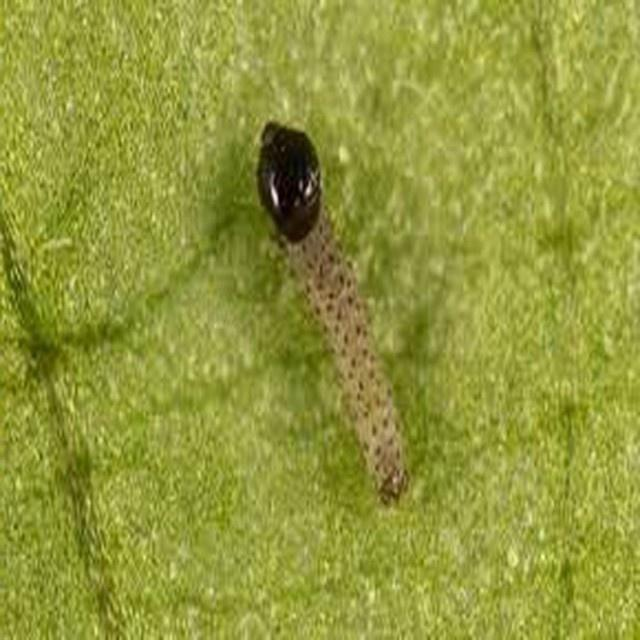gusano_cogollero: (262, 135, 405, 493)
